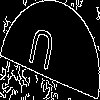U: (25, 25, 57, 81)
